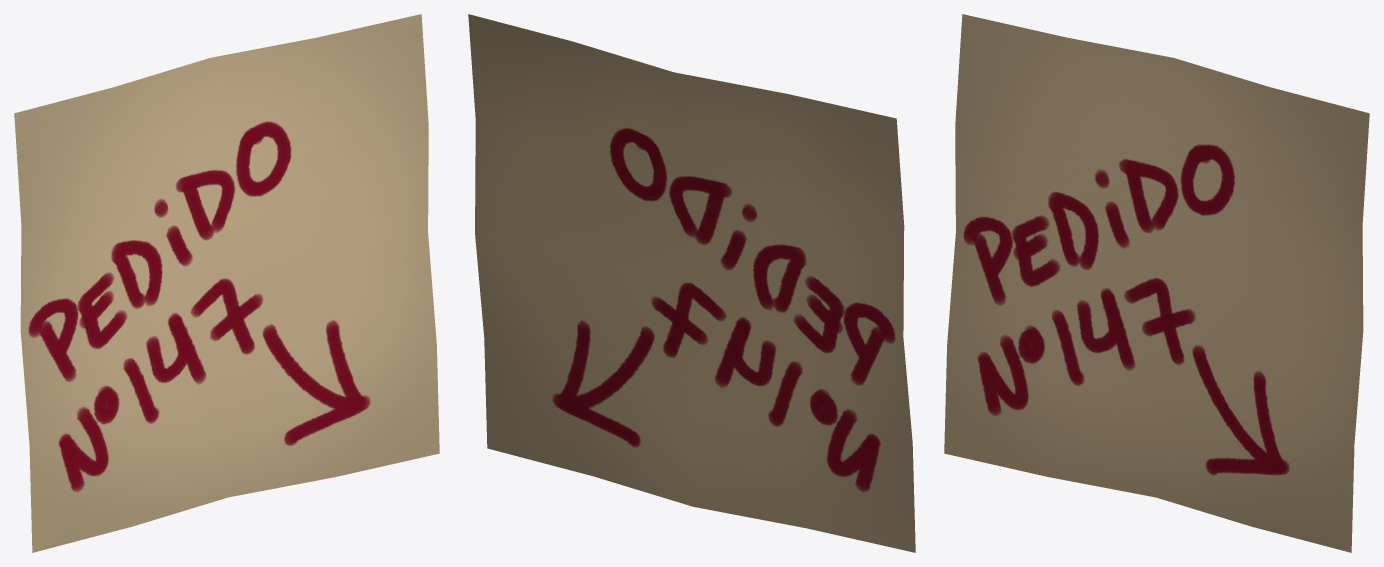
Rendered from _egatina_.fbx.
3 views of the same model, side by side, from view 1: azimuth 30°, elevation 25°; view 2: azimuth 150°, elevation 25°; view 3: azimuth 330°, elevation 25° (orthographic). The views are drawn at different scales.
Visible parts, largest first — view 1: Plane; view 2: Plane; view 3: Plane.
Boxes of the visible parts, <box> form: Plane: <box>14,14,439,552</box>; Plane: <box>468,14,915,552</box>; Plane: <box>944,14,1369,552</box>.
Bounding box in the file's own units: 336 × 336 × 37.16.
1 material, 1 textured.
